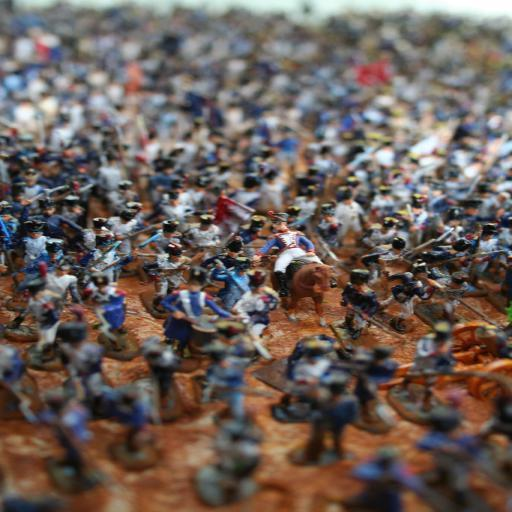horse: (267, 261, 337, 327)
